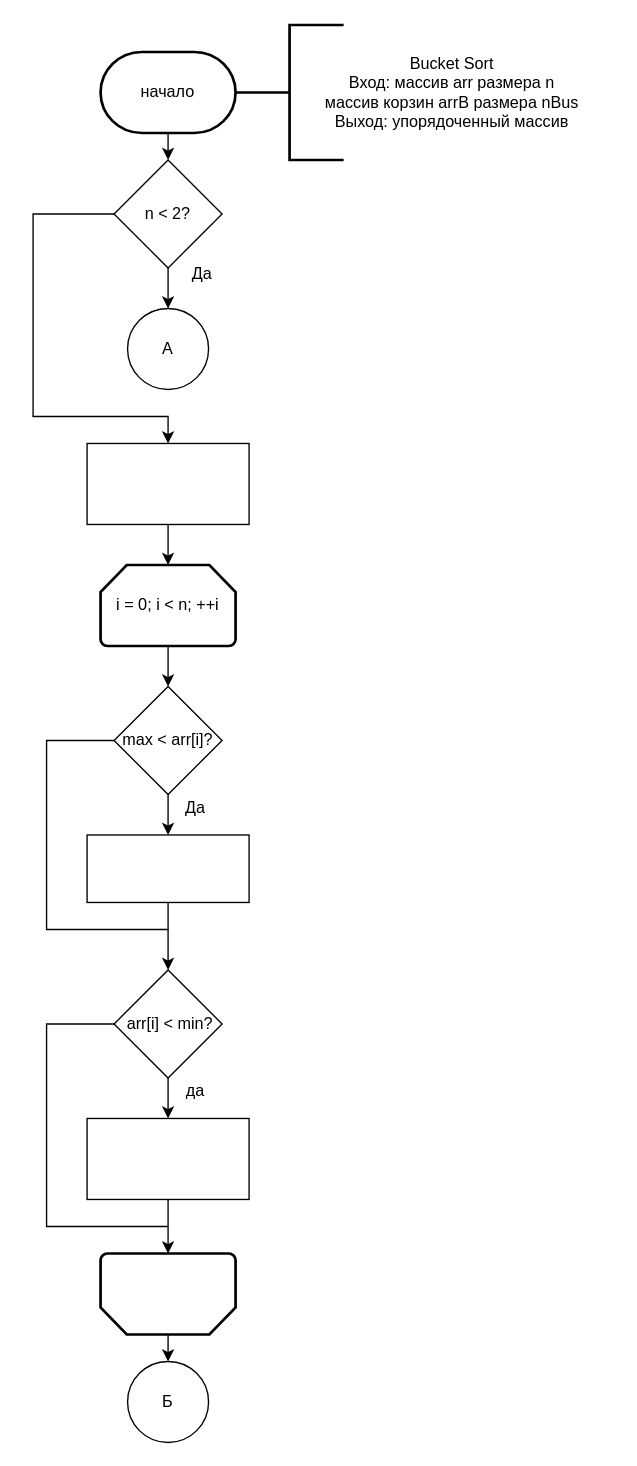
Image size: 637x1466. Some labels were removed from this diagram. Each missing label, with the centre of its shape:
"max = arr[i]" belongs at (x=167, y=868).
"min = arr[i]" belongs at (x=167, y=1158).
"min = INF max = -INF" belongs at (x=167, y=483).
